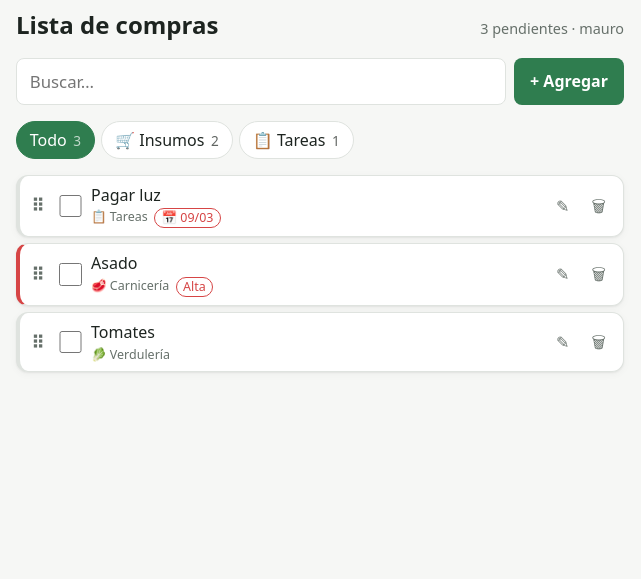
Scenario: App › edita un ítem
The width and height of the screenshot is (641, 579).
Expected: the text "Asado" is shown, [91,252,137,274]
Click the button named "Editar Asado". click: (563, 274)
box: [545,256,581,292]
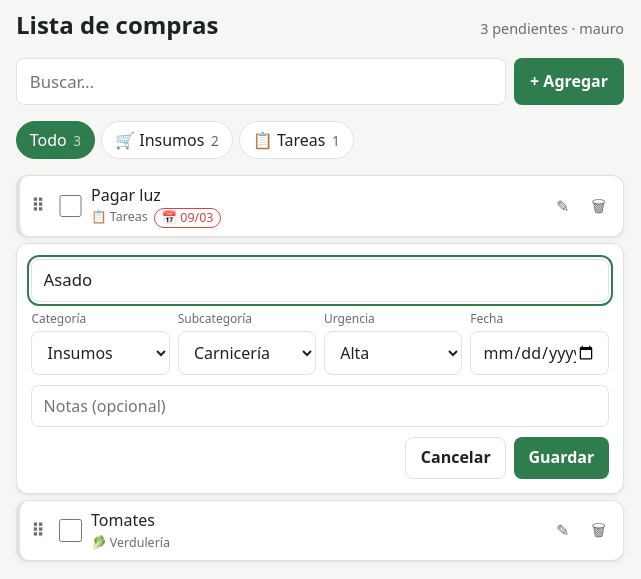
Replace the text in the field showing "Asado" with "Vacío". click: (320, 280)
box: [31,259,609,302]
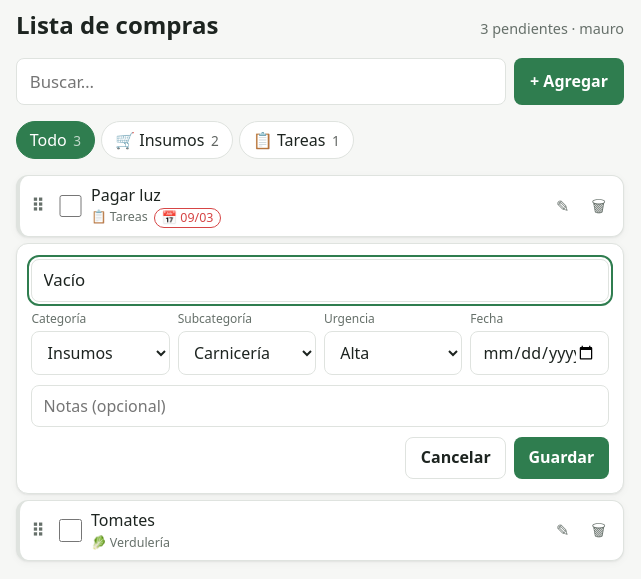
Select "Baja" in the dropdown labelled "Urgencia". click: (393, 353)
box: [324,331,462,375]
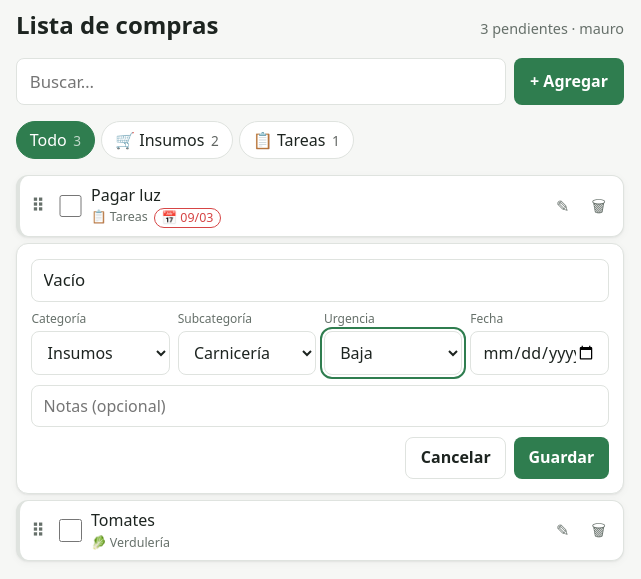
Click the button "Guardar". click: (561, 458)
box: [514,436,609,478]
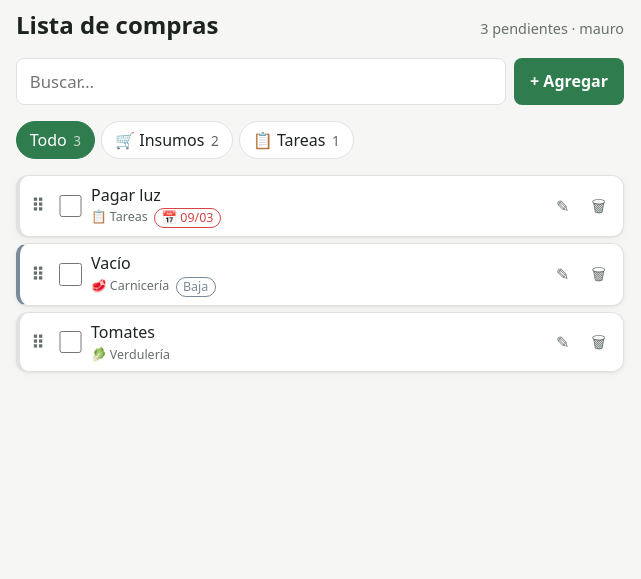
Expected: the text "Vacío" is shown, [91,252,131,274]
